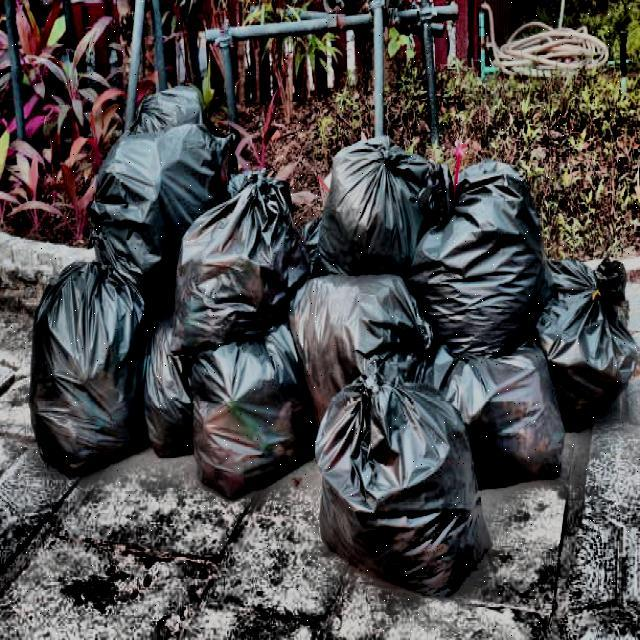Trashbag: (310, 365, 491, 599), (21, 245, 154, 480), (421, 159, 547, 347), (287, 260, 430, 420), (308, 130, 444, 276), (181, 182, 296, 341), (191, 335, 300, 497), (537, 262, 636, 416), (89, 143, 211, 253), (124, 74, 214, 144)
